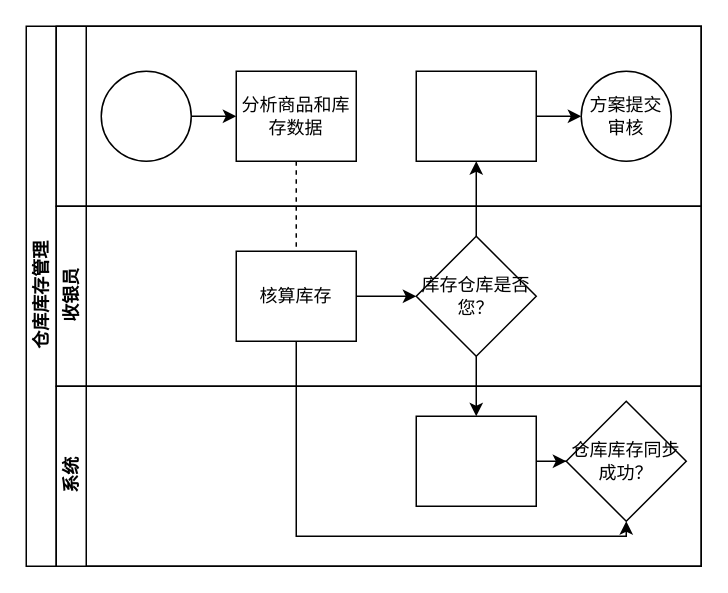
Some shapes in this 728 by 593 pixel diagram are drawn without their labels. Here are the shapes that lost their labels. From the top down, the box of each, then its label:
(100, 70, 191, 161): 接收商品入库
(55, 25, 701, 206): 管理员
(415, 70, 536, 161): 制定库存调整方案
(415, 415, 536, 506): 更新库存
